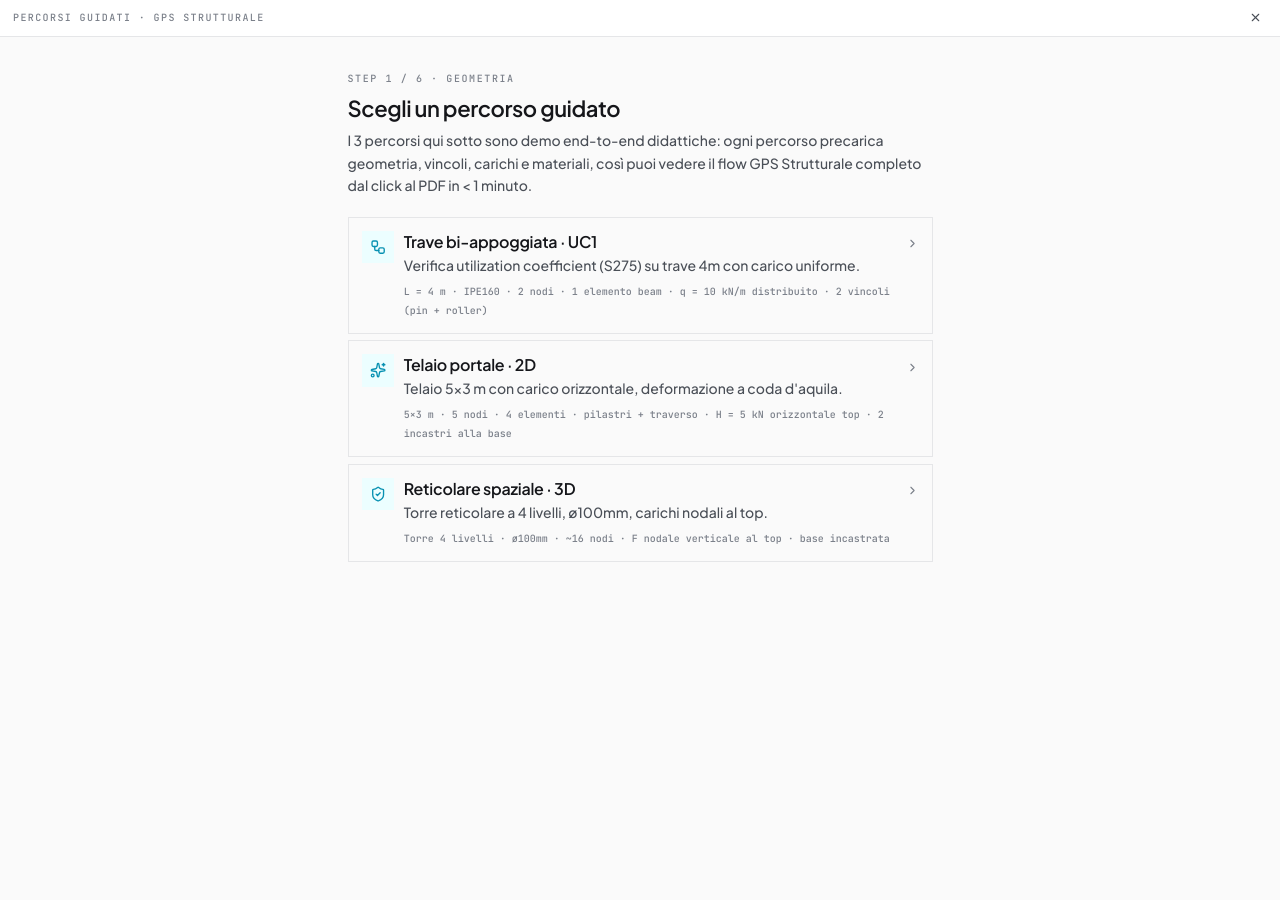
PercorsiBeamWizard (v2.6.3.1 full-page workspace) › step 2 → 'Indietro' torna a step 1
Click the button with test id "percorsi-card-telaio-portale-2d" at (640, 398), box x1=348 y1=340 x2=932 y2=457
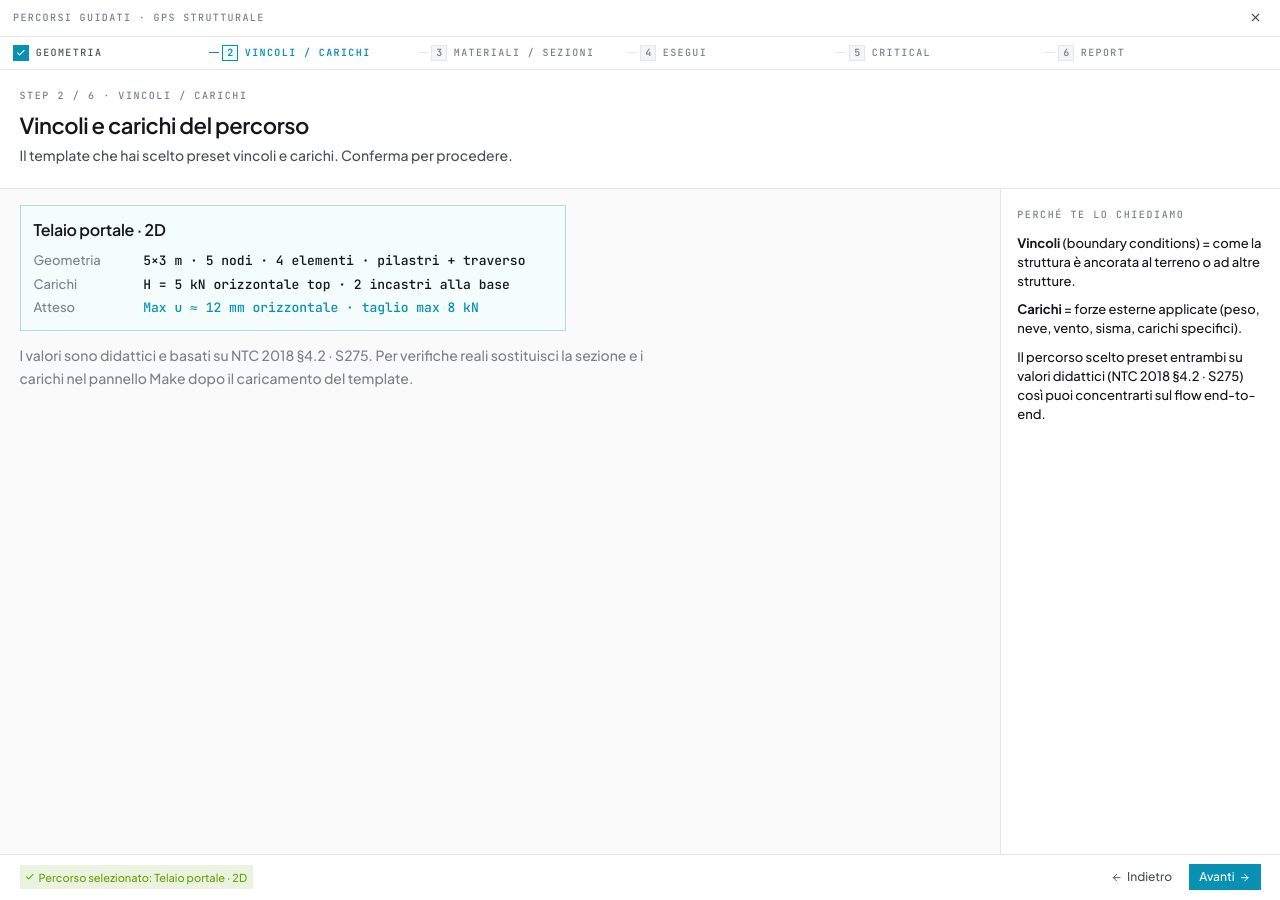
Now the element with test id "percorsi-step-2" is shown, box x1=20 y1=205 x2=643 y2=387
Click the button "Indietro" at (1141, 877), box x1=1100 y1=864 x2=1183 y2=890
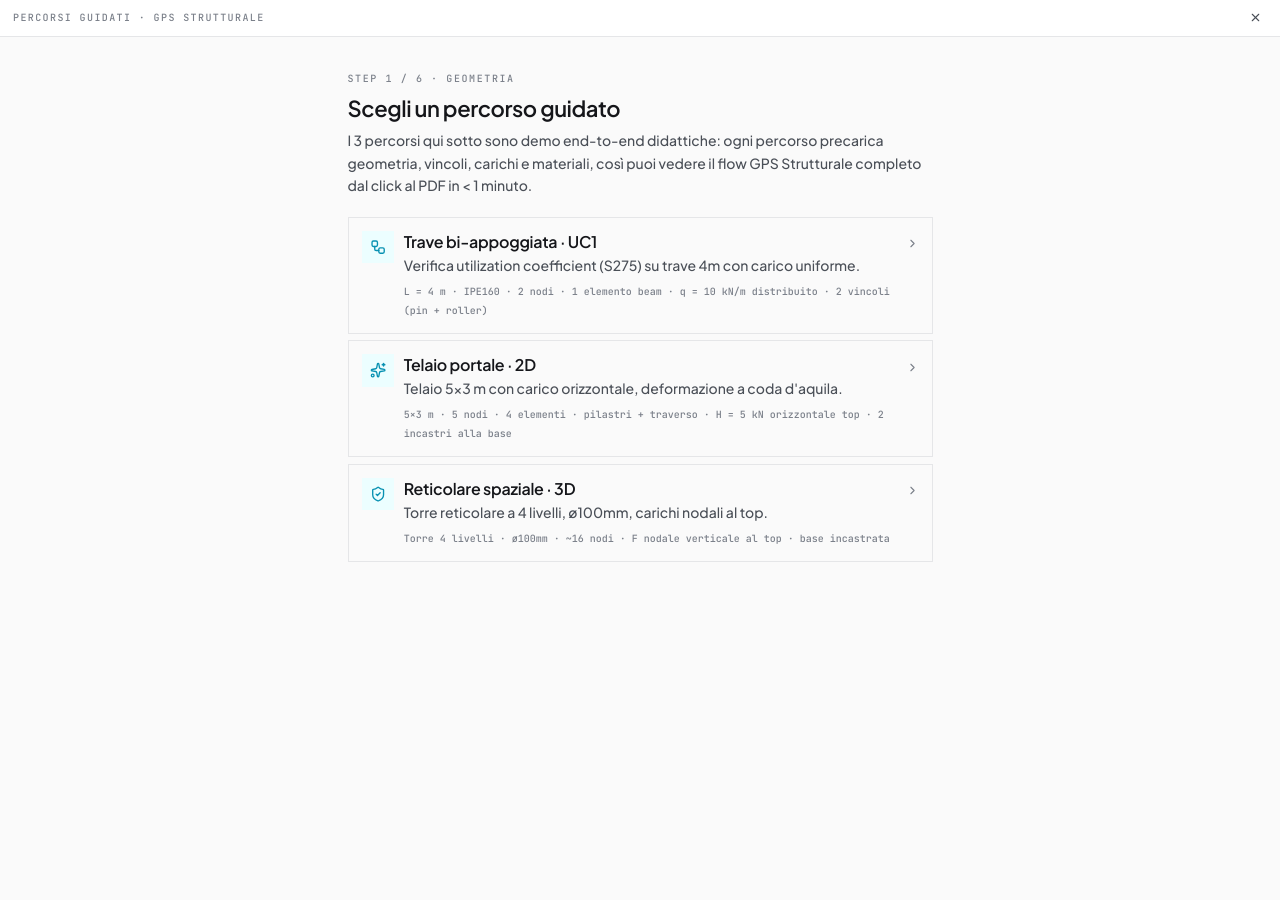
Now the element with test id "percorsi-step-1" is shown, box x1=348 y1=72 x2=932 y2=562
